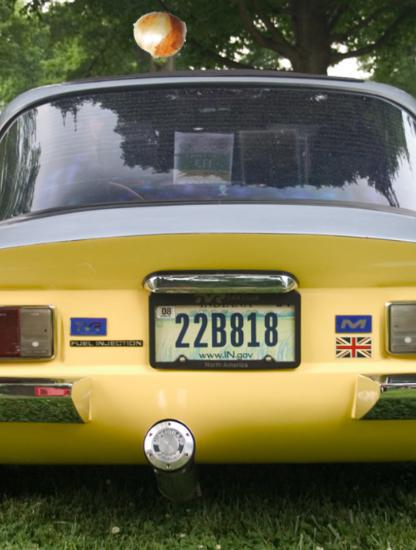Onion: (132, 7, 187, 62)
